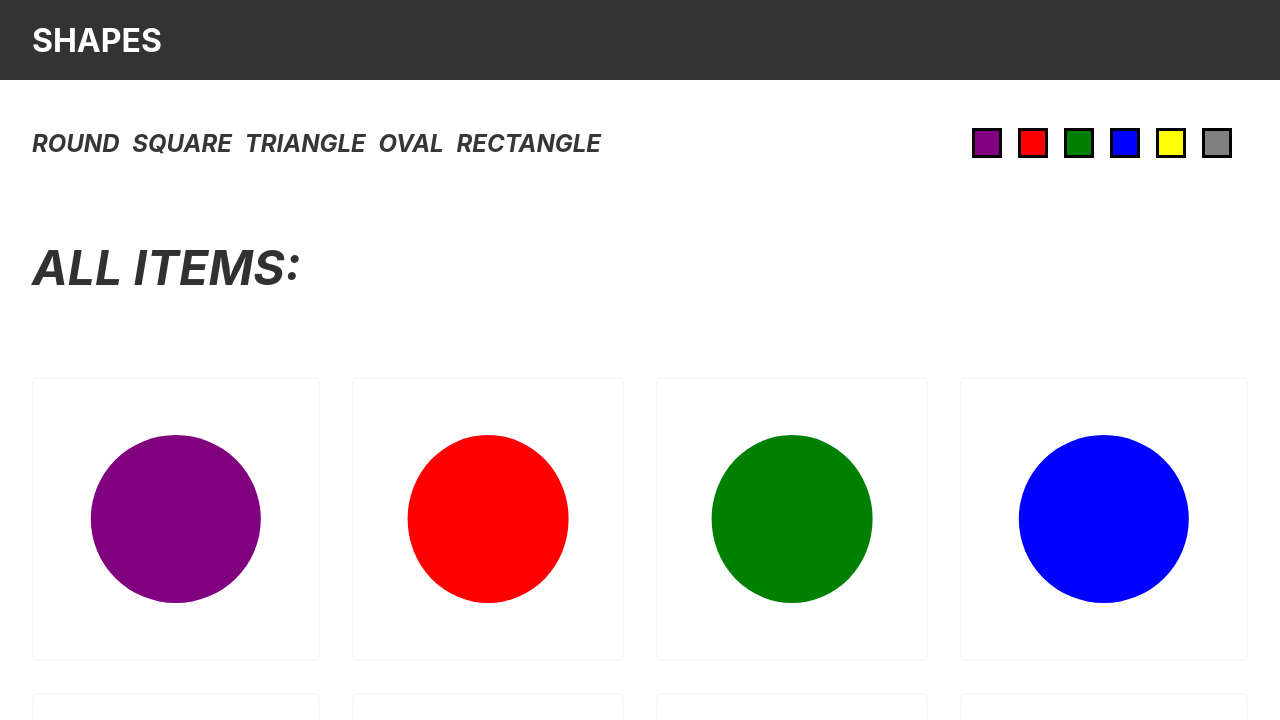
Test: Only selecting red color generates 'multiple red items:' label and then deselecting rectangle will generate 'all items:'
Click the element with test id "purple" at (987, 143), box [972, 128, 1002, 158]
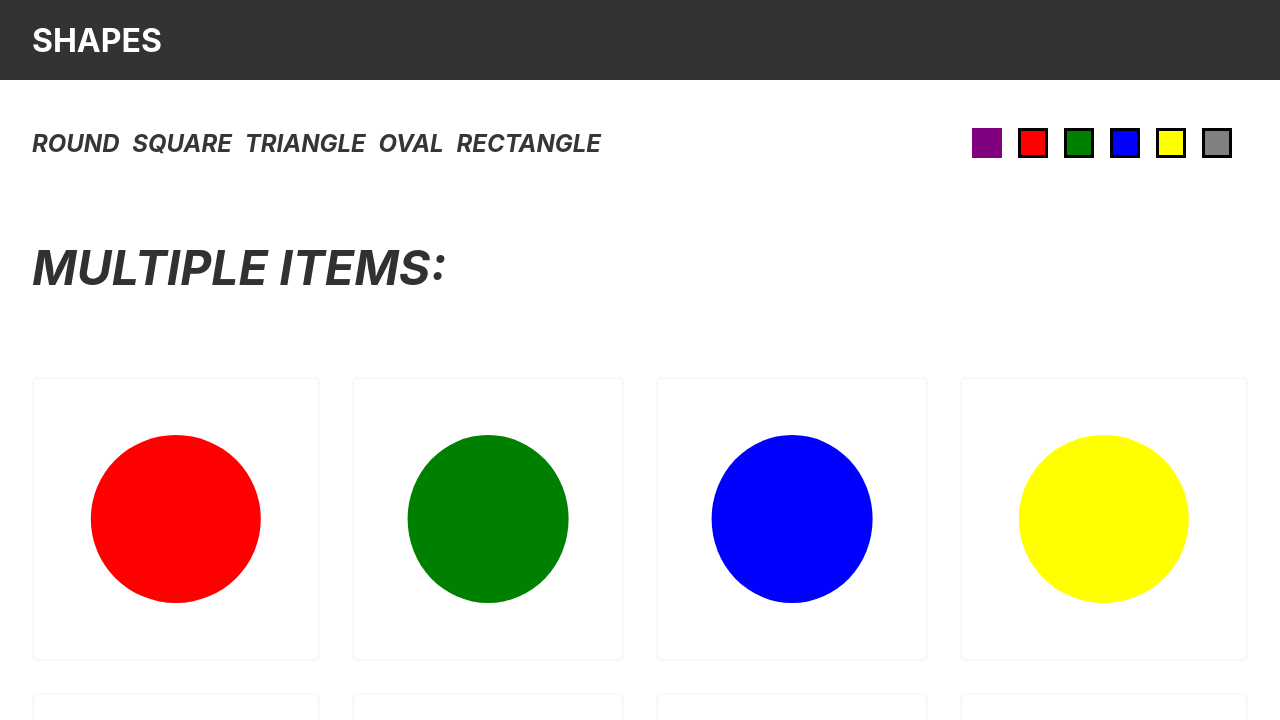
Click the element with test id "green" at (1079, 143), box [1064, 128, 1094, 158]
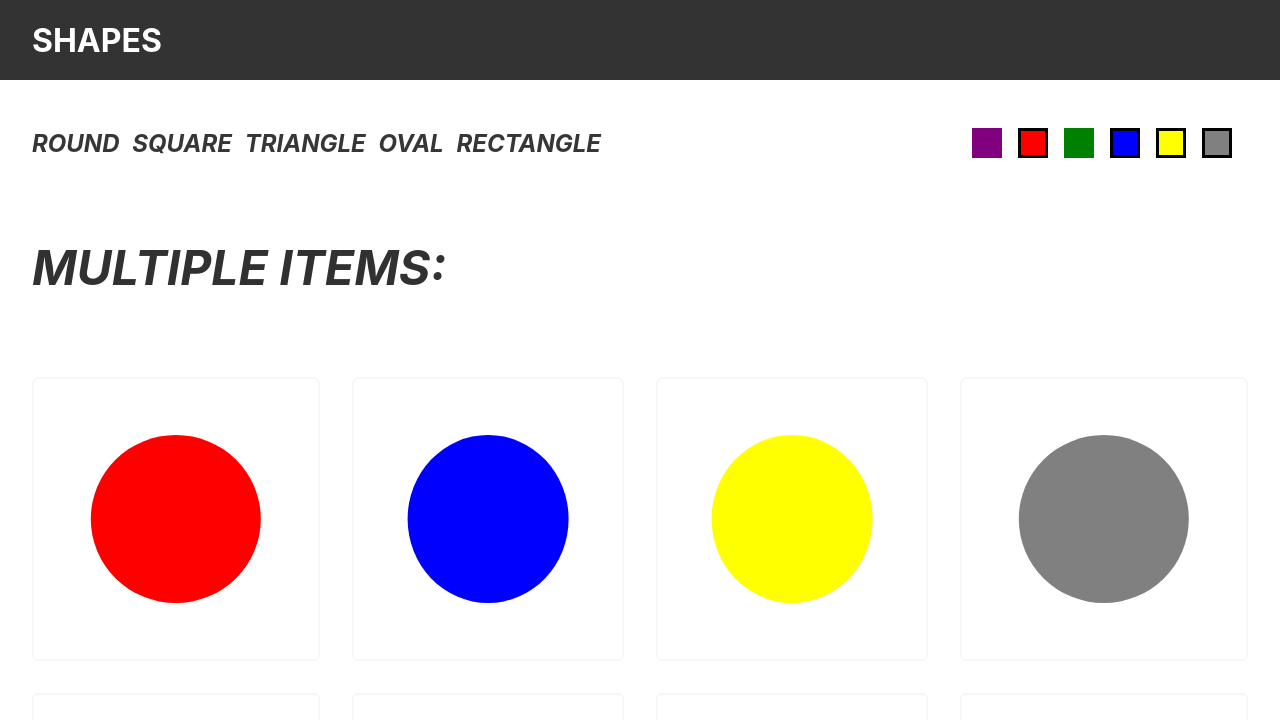
Click the element with test id "blue" at (1125, 143), box [1110, 128, 1140, 158]
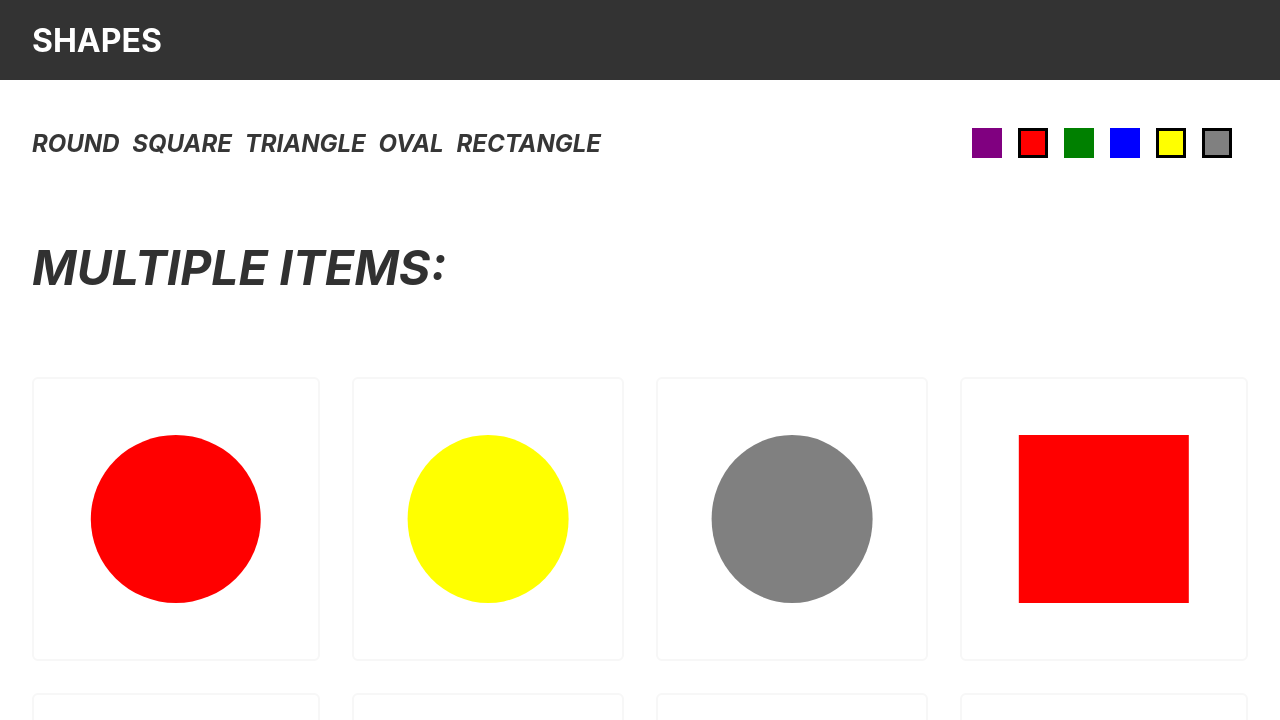
Click the element with test id "yellow" at (1171, 143), box [1156, 128, 1186, 158]
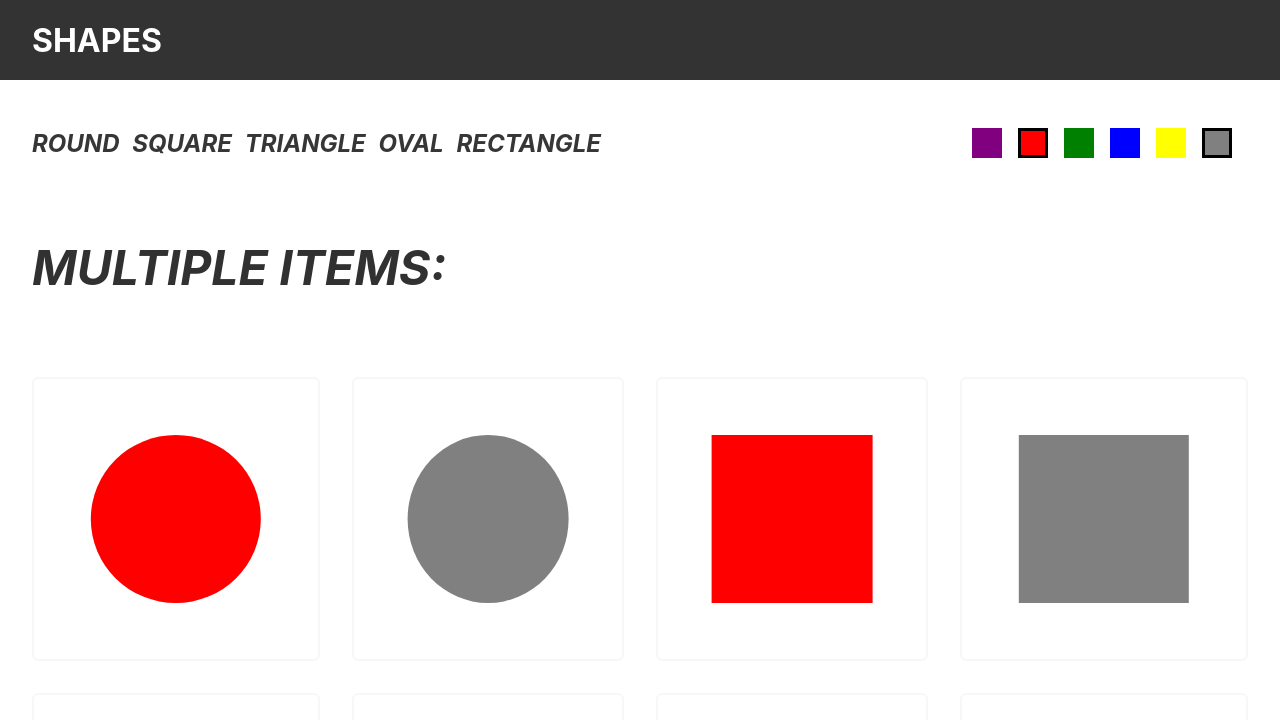
Click the element with test id "grey" at (1217, 143), box [1202, 128, 1232, 158]
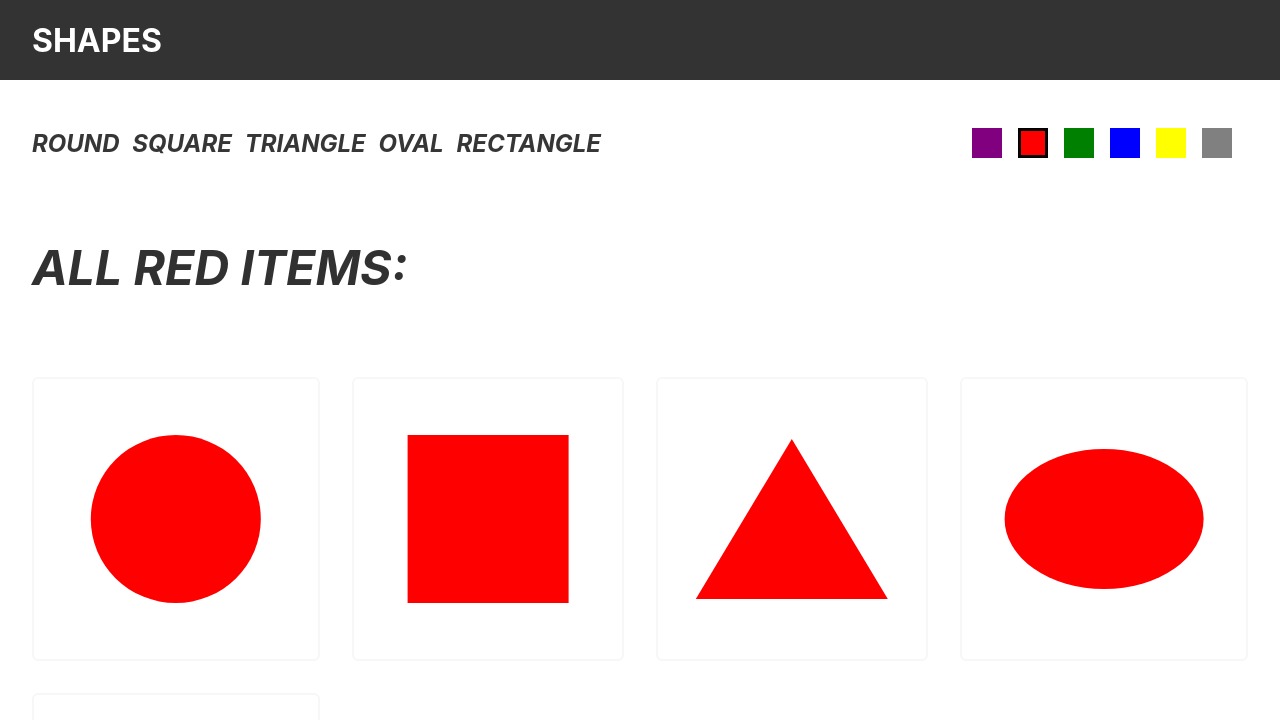
Now the heading "all red items:" is shown, box [32, 238, 408, 297]
Click the element with test id "red" at (1033, 143), box [1018, 128, 1048, 158]
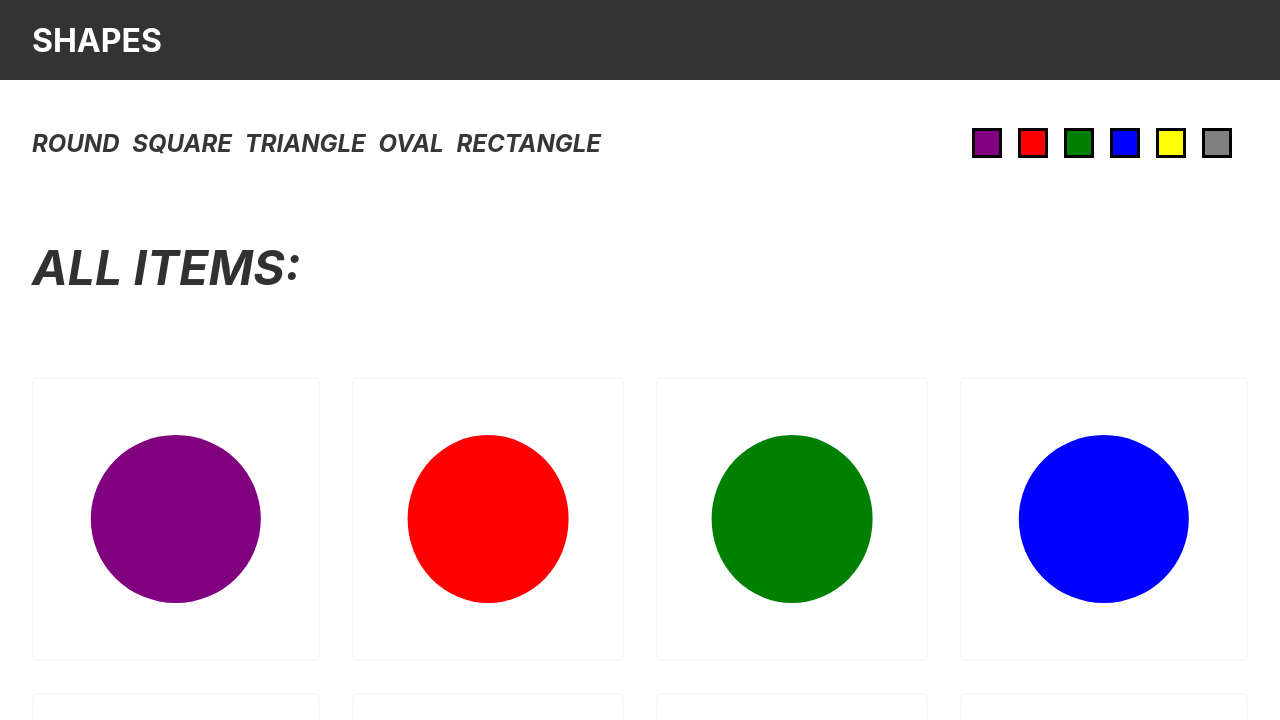
Now the heading "all items:" is shown, box [32, 238, 301, 297]
